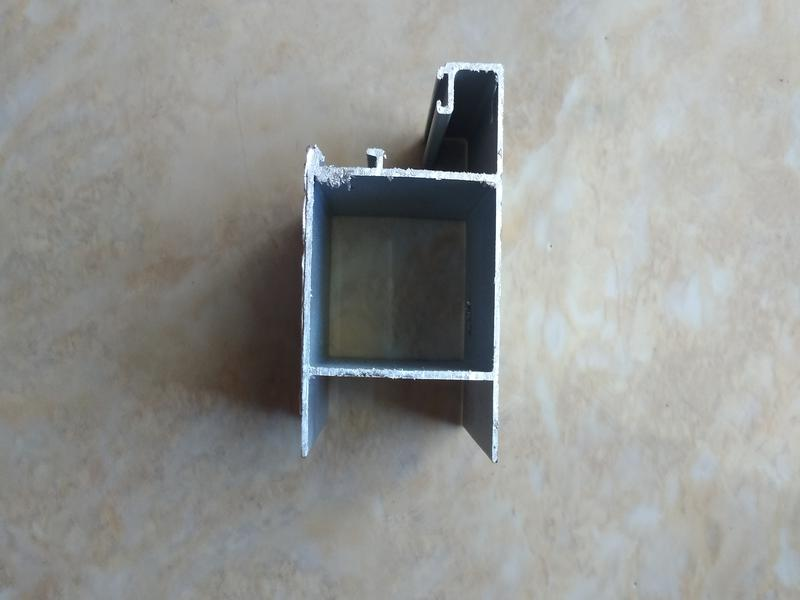Aluminium_2: (245, 26, 549, 506)
